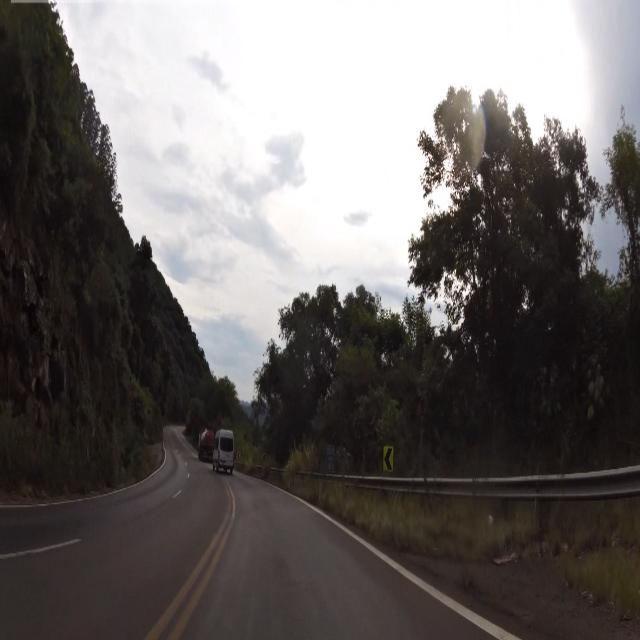Del: (383, 444, 396, 476)
